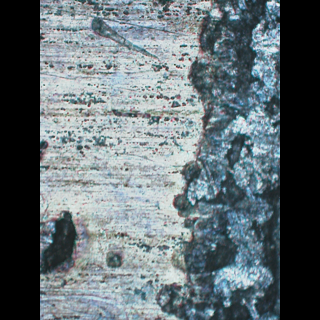d: (149, 0, 279, 318), (39, 205, 83, 293)
